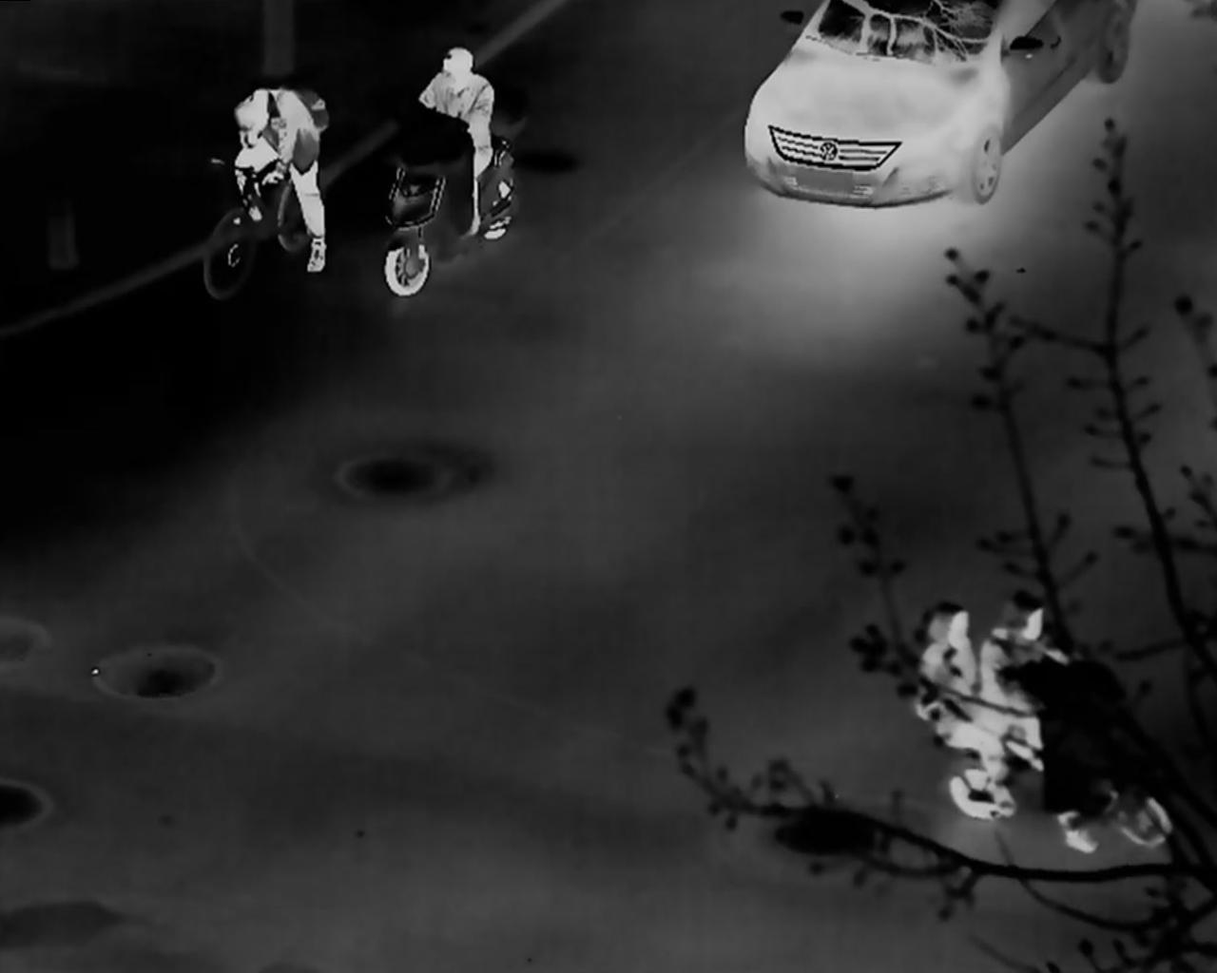person: (913, 601, 1017, 818), (228, 85, 331, 276), (417, 42, 492, 238), (983, 592, 1071, 672)
